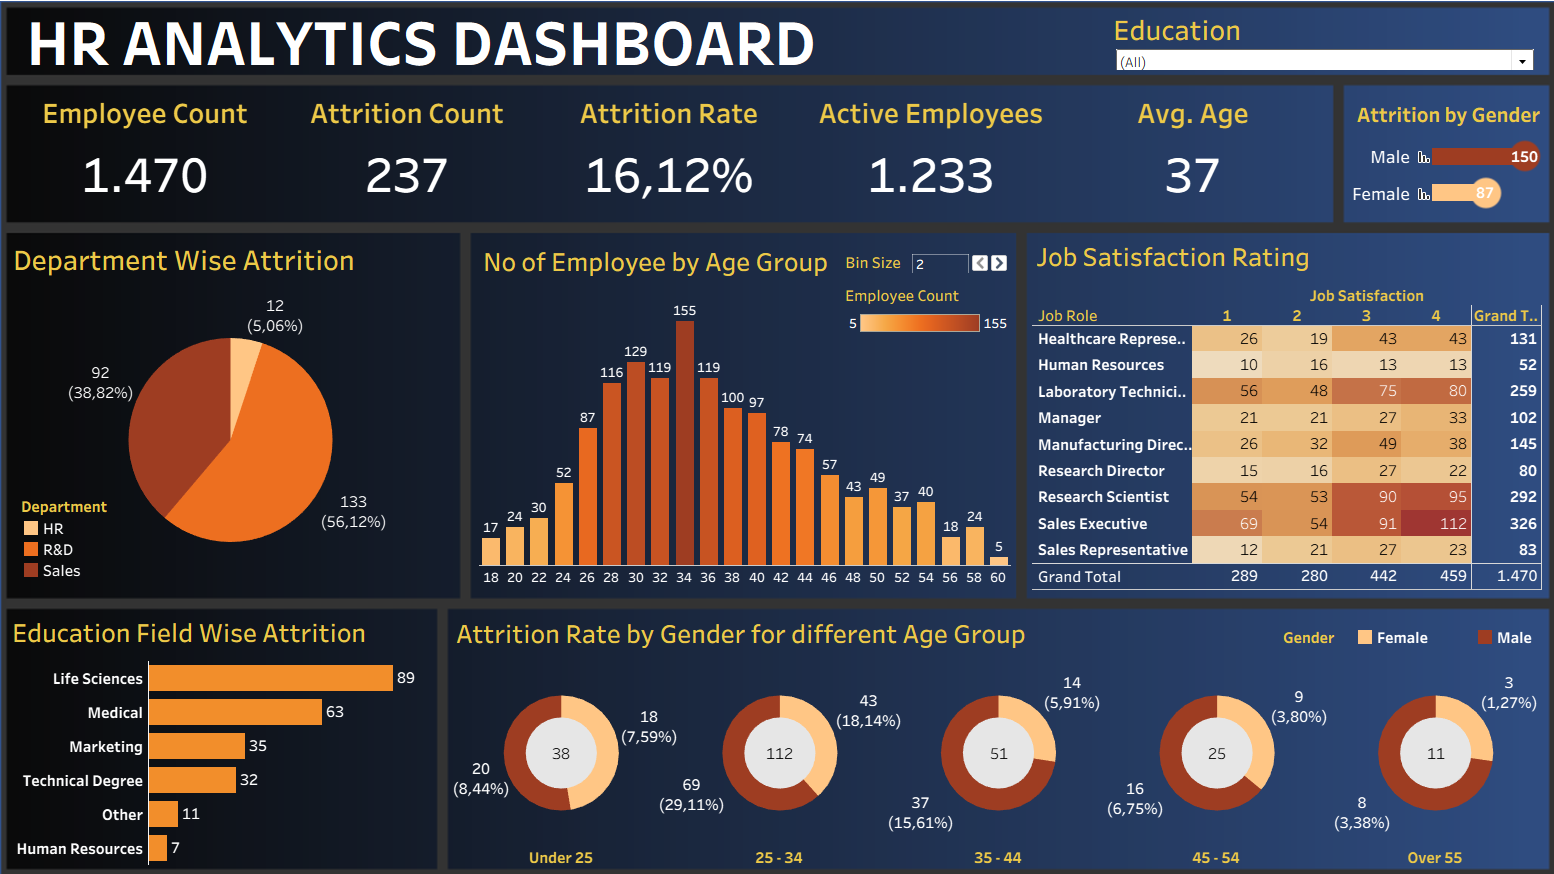

The page's visual inventory and layout, read from the dashboard file:
{"tool":"tableau","page":{"name":"HR Analytics","canvas":[1580,900],"ordinal":0},"visuals":[{"type":"image","param":"Image/HR background.pptx.png","box":[8,8,1564,884]},{"type":"filter","title":"No of Employee by Age Group","param":"[federated.0llppjo1696m9h1as0d1j11l5ldt].[none:Education:nk]","box":[1125,22,424,59]},{"type":"text","box":[35,23,854,57]},{"type":"worksheet","title":"KPI","mark":"Automatic","box":[26,102,1310,126]},{"type":"worksheet","title":"Attrition by Gender","mark":"Automatic","rows":["Gender"],"cols":["Calculation_1680094724009984","Calculation_1680094724009984"],"box":[1364,107,193,115]},{"type":"worksheet","title":"Job Satisfaction Rating","mark":"Square","rows":["Job Role"],"cols":["Job Satisfaction"],"box":[1044,246,510,355]},{"type":"worksheet","title":"Department Wise Attrition","mark":"Pie","box":[21,248,443,354]},{"type":"worksheet","title":"No of Employee by Age Group","mark":"Automatic","rows":["Employee Count"],"cols":["Age (bin)"],"box":[491,251,532,347]},{"type":"parameter","param":"[Parameters].[Parameter 1]","box":[849,262,173,22]},{"type":"legend","title":"No of Employee by Age Group","param":"[federated.0llppjo1696m9h1as0d1j11l5ldt].[sum:Employee Count:qk]","box":[857,296,167,60]},{"type":"legend","title":"Department Wise Attrition","param":"[federated.0llppjo1696m9h1as0d1j11l5ldt].[none:Department:nk]","box":[33,507,140,85]},{"type":"worksheet","title":"Education Field Wise Attrition","mark":"Automatic","rows":["Education Field"],"cols":["Calculation_1680094724009984"],"box":[20,622,424,254]},{"type":"worksheet","title":"Attrition Rate by Gender for different Age Group","mark":"Pie","rows":["Calculation_1680094754398212","Calculation_1680094754398212"],"cols":["CF_age band"],"box":[464,623,1093,257]}]}

Visuals, with their boxes in screenshot pixels (x1, y1, x2, y2), scaled from the page's 1580x900 canvas onto the 1554x874 screenshot:
image: (8, 8, 1546, 866)
"No of Employee by Age Group" filter: (1106, 21, 1524, 79)
text: (34, 22, 874, 78)
"KPI" worksheet: (26, 99, 1314, 221)
"Attrition by Gender" worksheet: (1342, 104, 1531, 216)
"Job Satisfaction Rating" worksheet (Square marks): (1027, 239, 1528, 584)
"Department Wise Attrition" worksheet (Pie marks): (21, 241, 456, 585)
"No of Employee by Age Group" worksheet: (483, 244, 1006, 581)
parameter: (835, 254, 1005, 276)
"No of Employee by Age Group" legend: (843, 287, 1007, 346)
"Department Wise Attrition" legend: (32, 492, 170, 575)
"Education Field Wise Attrition" worksheet: (20, 604, 437, 851)
"Attrition Rate by Gender for different Age Group" worksheet (Pie marks): (456, 605, 1531, 855)
